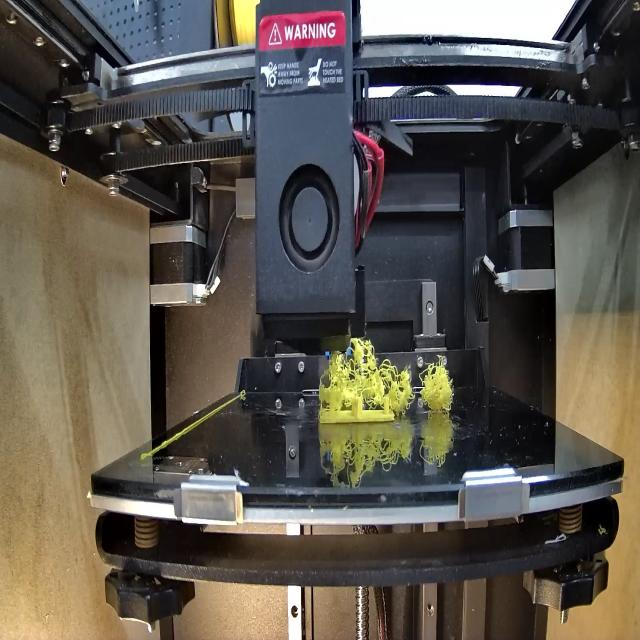spaghetti: (318, 336, 456, 406)
